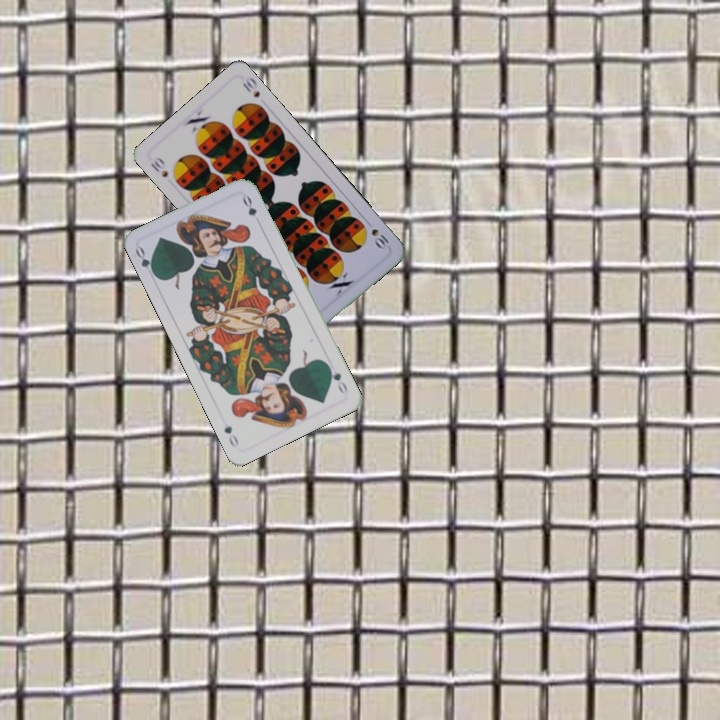GO: (131, 243, 159, 280), (323, 361, 350, 397)
S10: (359, 216, 391, 253), (146, 153, 171, 180)
